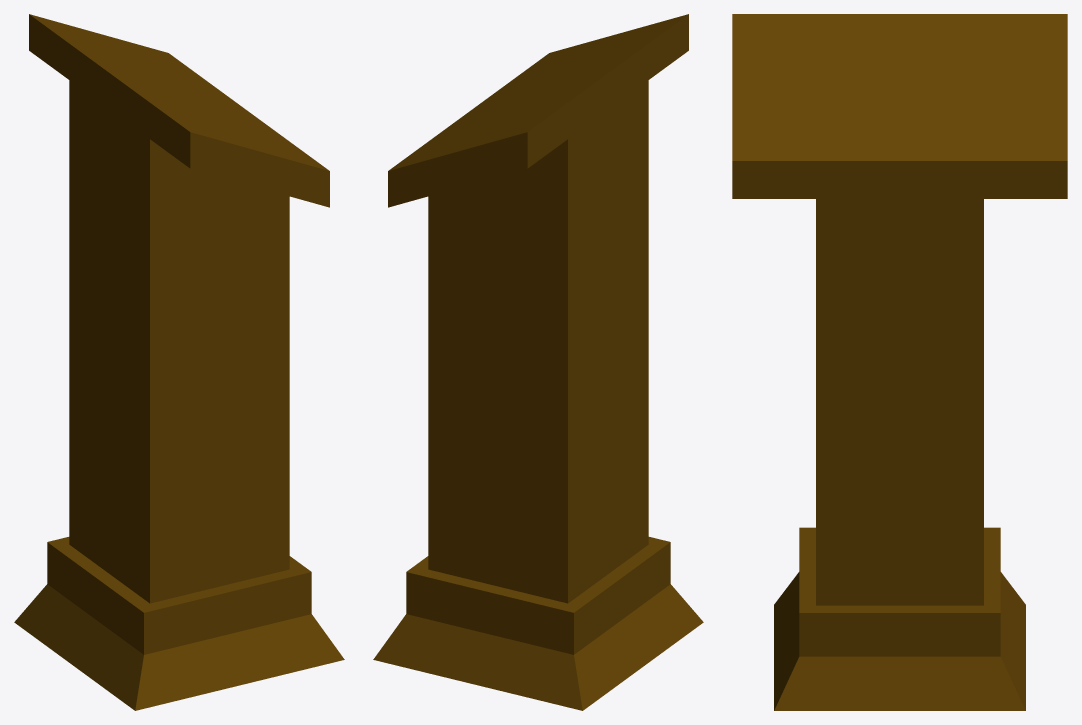
The model's file is Lectern.fbx.
The picture shows the model from 3 angles, left to right: view 1: azimuth 30°, elevation 25°; view 2: azimuth 150°, elevation 25°; view 3: azimuth 270°, elevation 25°; orthographic projection. The views are drawn at different scales.
Visible parts, largest first — view 1: Cube; view 2: Cube; view 3: Cube.
Boxes of the visible parts, box(x1,y1,x2,y2) form: Cube: box(14, 14, 344, 710); Cube: box(373, 14, 703, 710); Cube: box(732, 14, 1067, 710).
Size of the model in its own units: 60 by 160 by 80.
